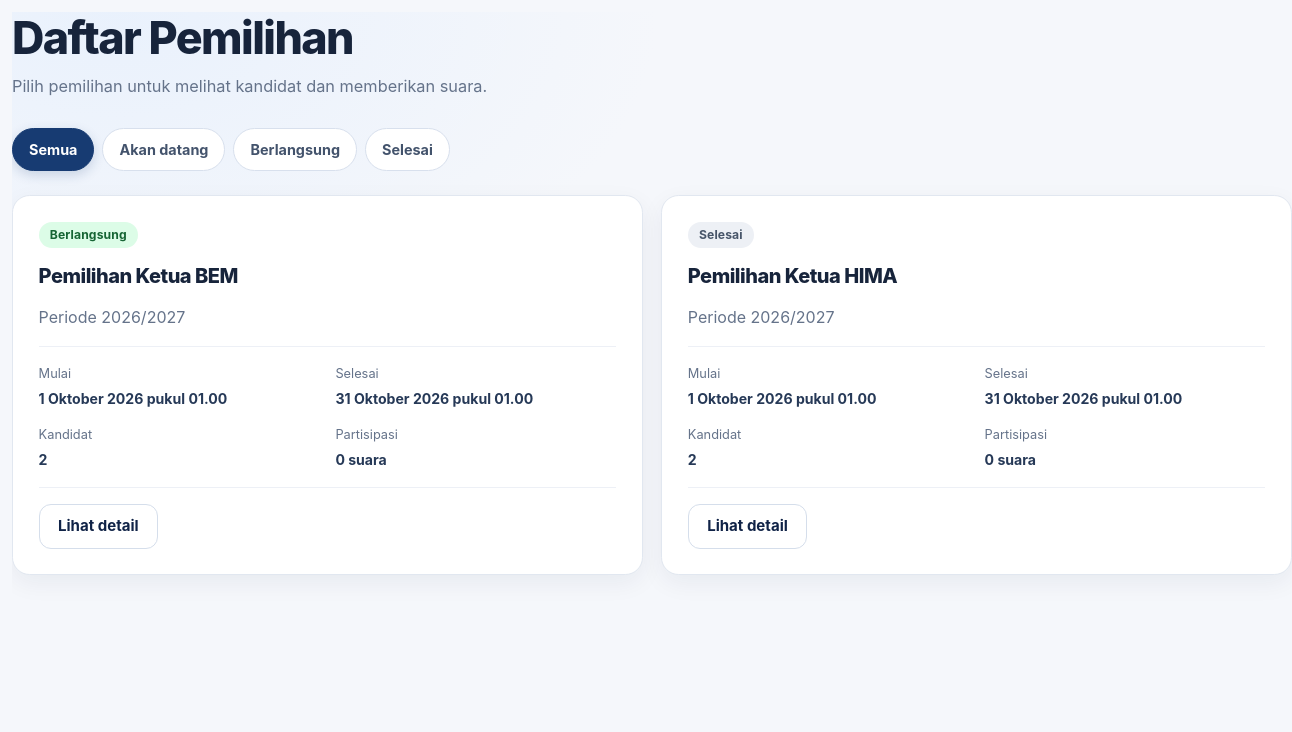
Test case: ElectionsPage › menampilkan dan memfilter daftar pemilihan
Check: the heading "Pemilihan Ketua BEM" is shown, box [39,264,238,288]
Check: the heading "Pemilihan Ketua HIMA" is shown, box [688,264,897,288]
Click the button "Selesai" at (407, 150), box [365,128,450,171]
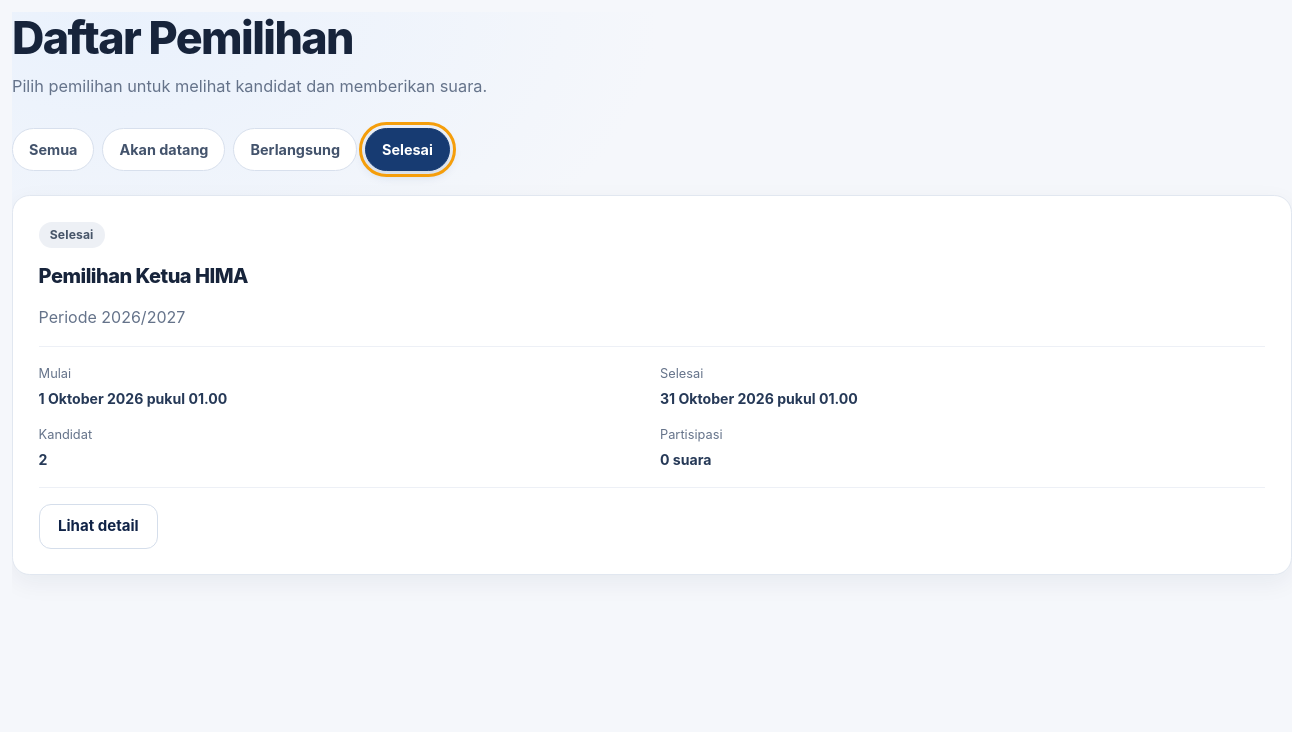
Check: the link "Pemilihan Ketua BEM" is gone
Click the button "Akan datang" at (164, 150), box [102,128,226,171]
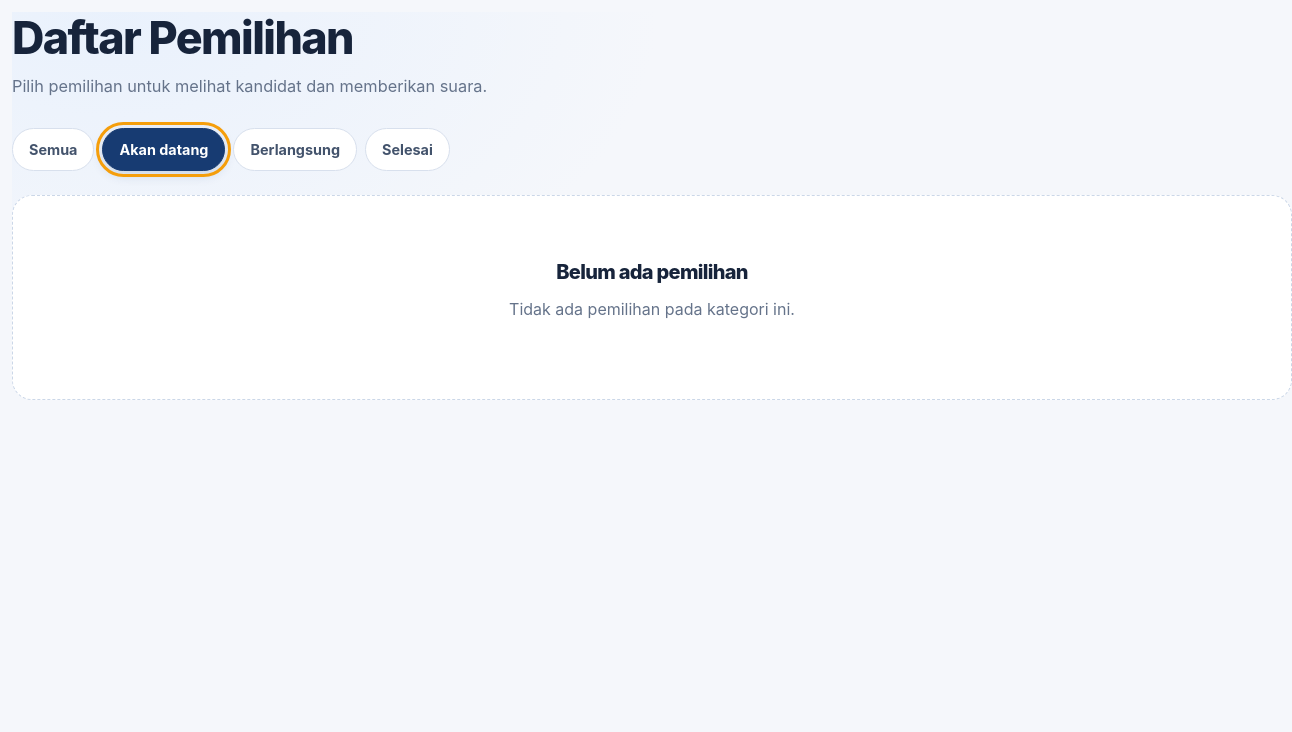
Check: the text "Tidak ada pemilihan pada kategori ini." is shown, box [509,299,795,319]
